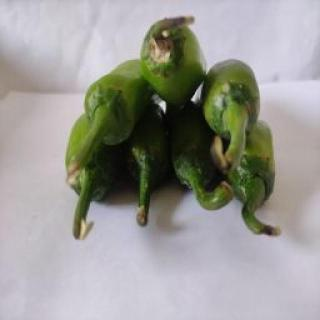Cabai Hijau: (64, 57, 154, 191), (199, 58, 263, 176), (136, 14, 208, 108)
